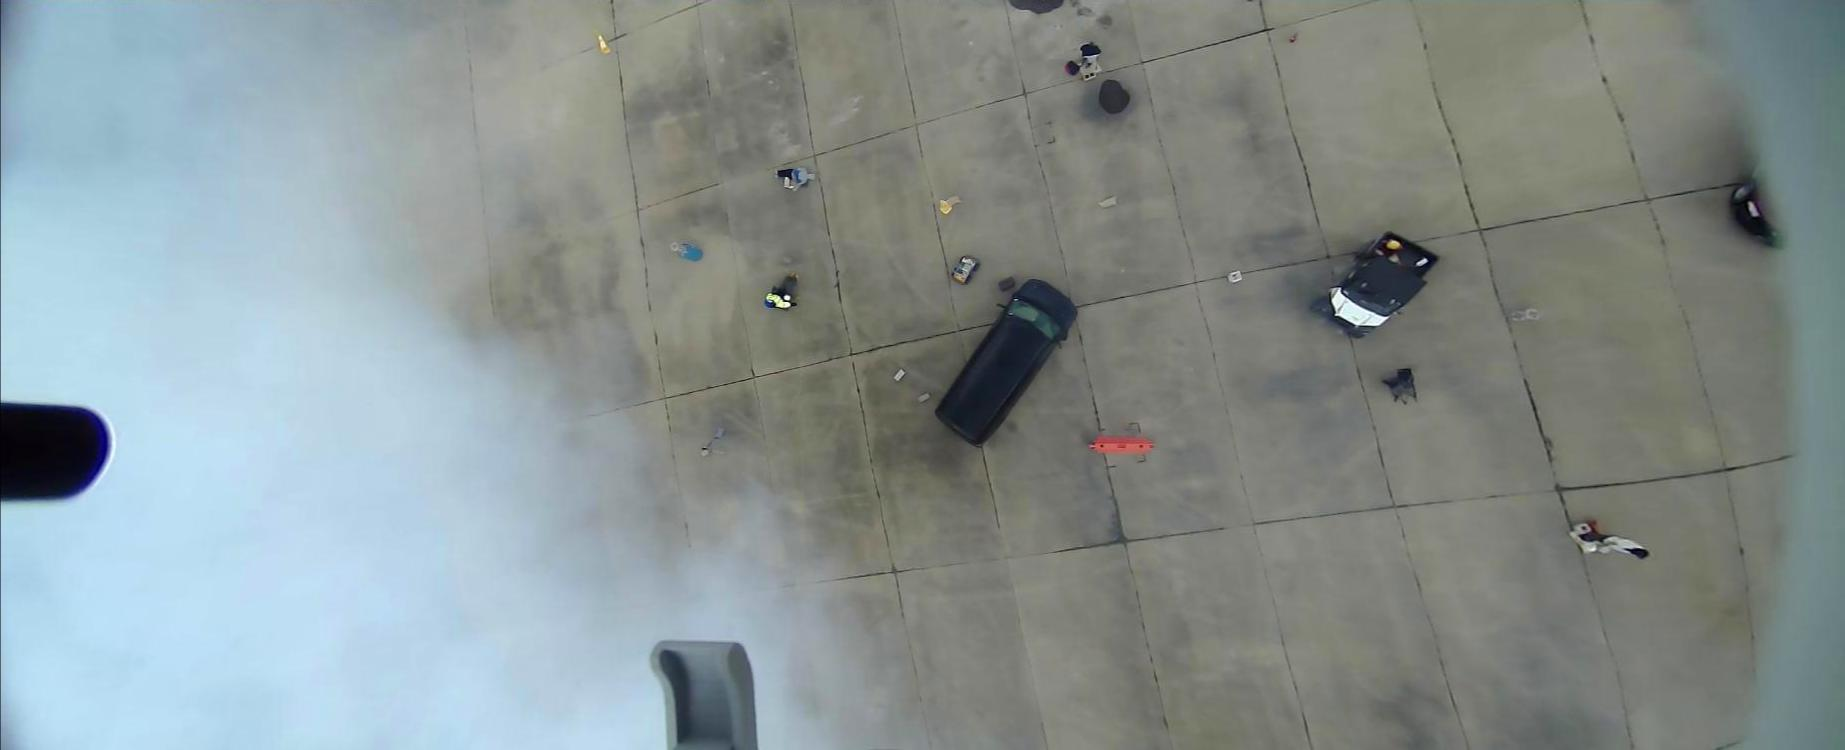vehicle: (933, 278, 1079, 450), (1308, 231, 1441, 340), (1731, 164, 1786, 251)
